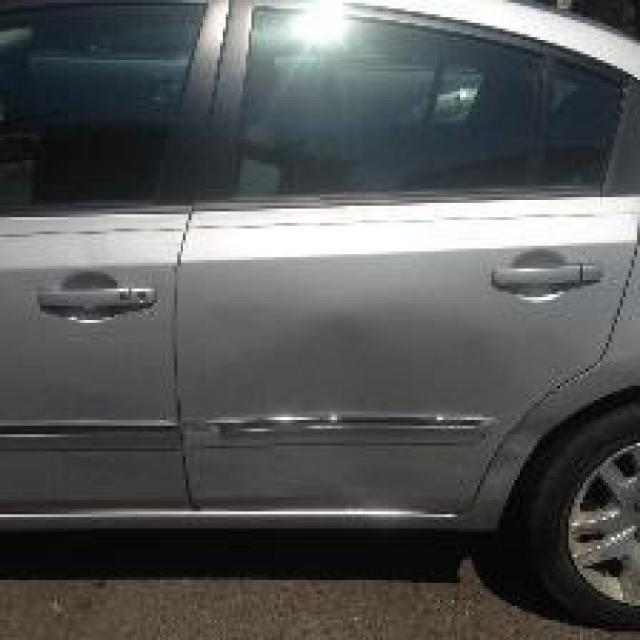damaged: (182, 317, 518, 469)
